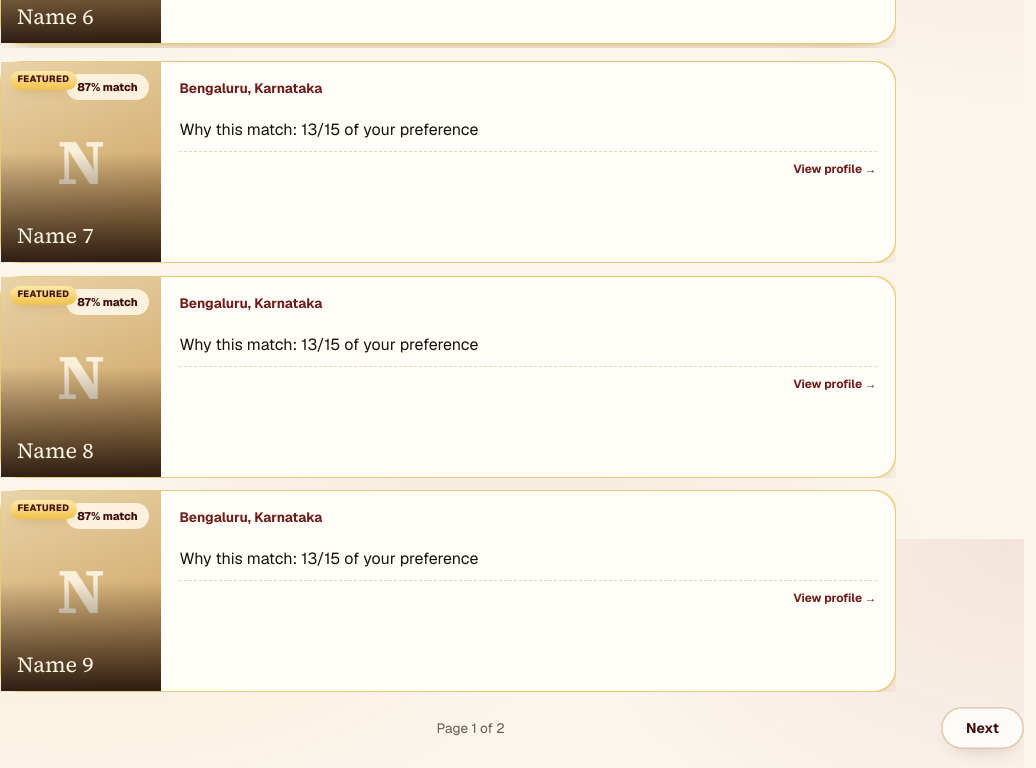
laptop Discover browsing › opens a tall results list with paging on a laptop
The width and height of the screenshot is (1036, 768).
(page scrolled)
Click the button "Next" at (983, 728), box 941,707 -> 1024,749
(page scrolled)
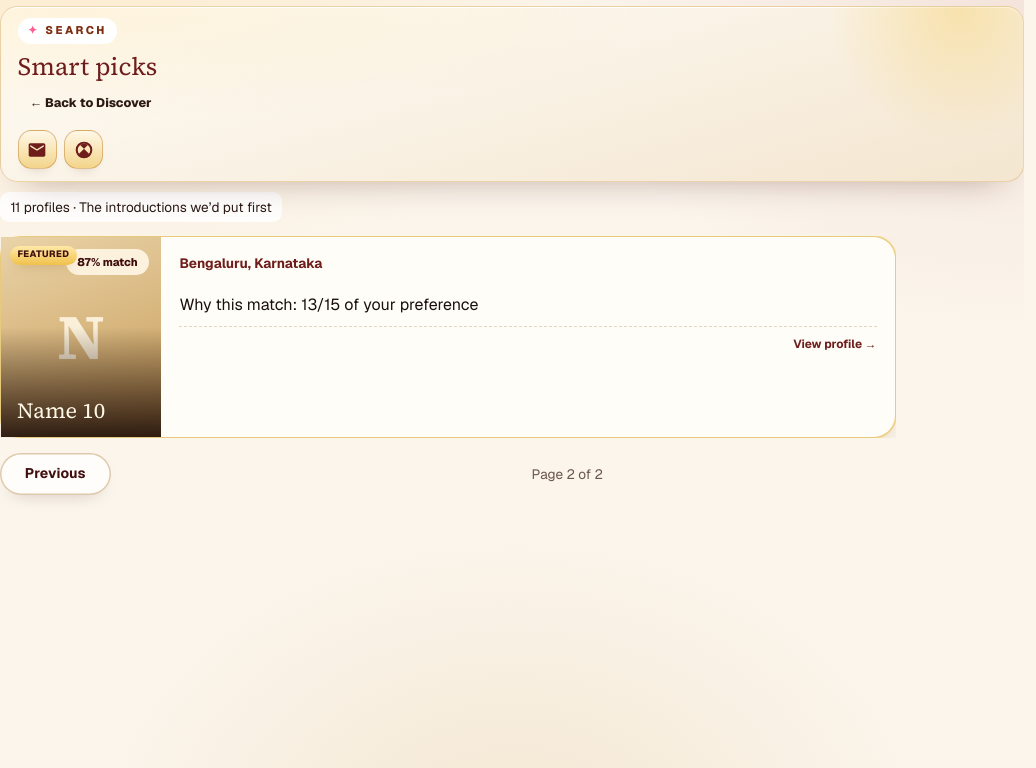
Expected: the link "Name 10" is shown, 0,236 -> 896,438
